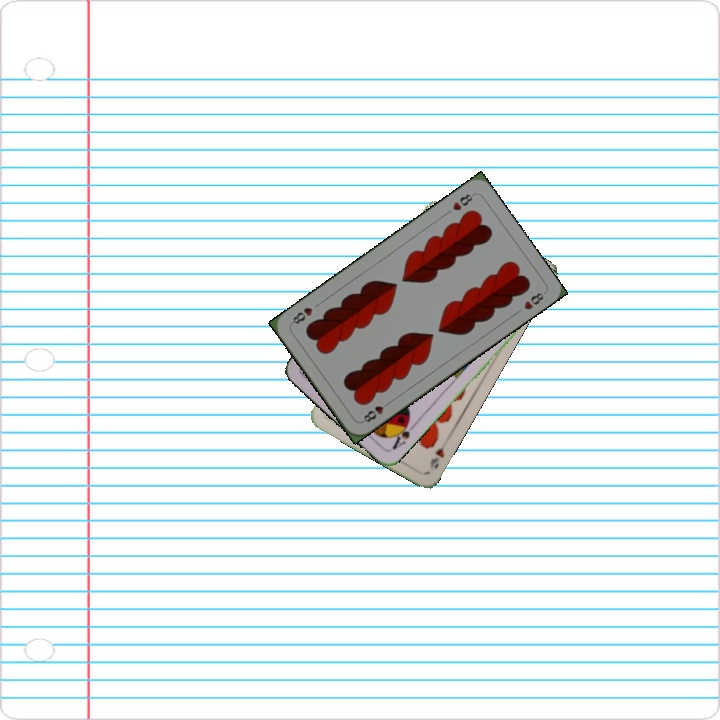H8: (358, 397, 393, 425), (448, 189, 477, 213)
H9: (426, 436, 450, 471)
SA: (388, 415, 418, 453)
